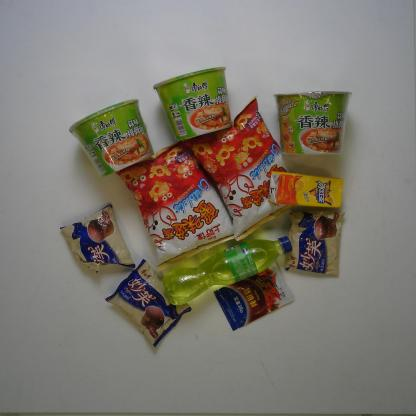Dessert: (102, 258, 192, 348), (58, 202, 137, 282), (280, 203, 346, 280)
Drink: (154, 234, 300, 306), (266, 165, 347, 214)
Instant Noodles: (60, 97, 159, 181), (155, 61, 237, 145), (270, 84, 352, 162)
Puffed Food: (184, 92, 305, 242), (114, 144, 240, 274)
Seasoner: (215, 262, 297, 330)
